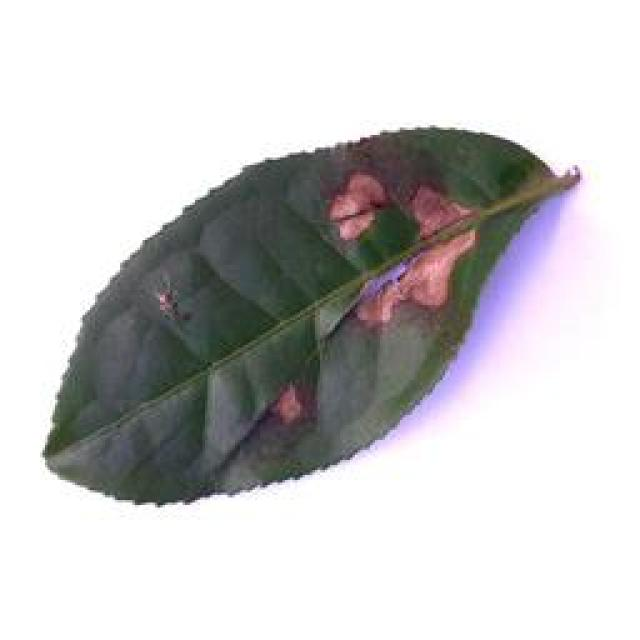Gray Blight: (41, 121, 586, 509)
